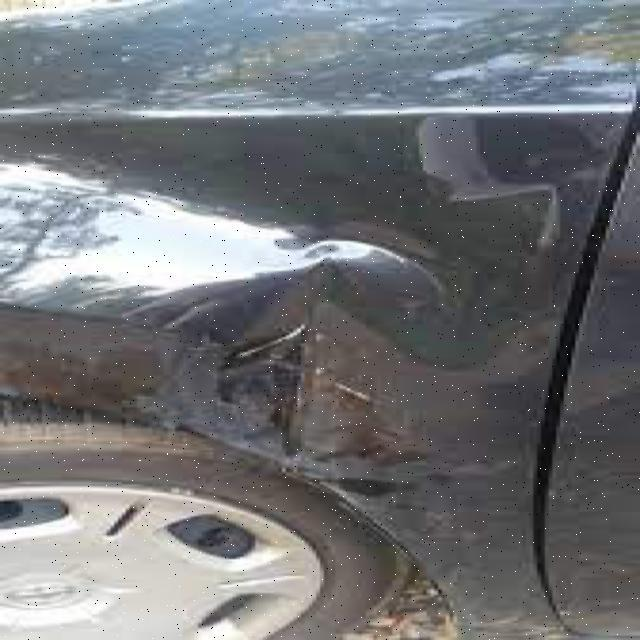fender-dent: (0, 19, 595, 540)
